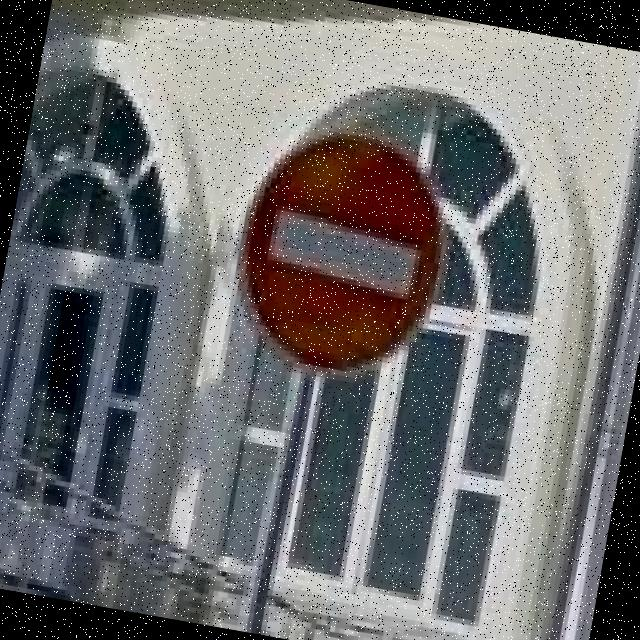Zakaz wjazdu: (219, 114, 468, 395)
